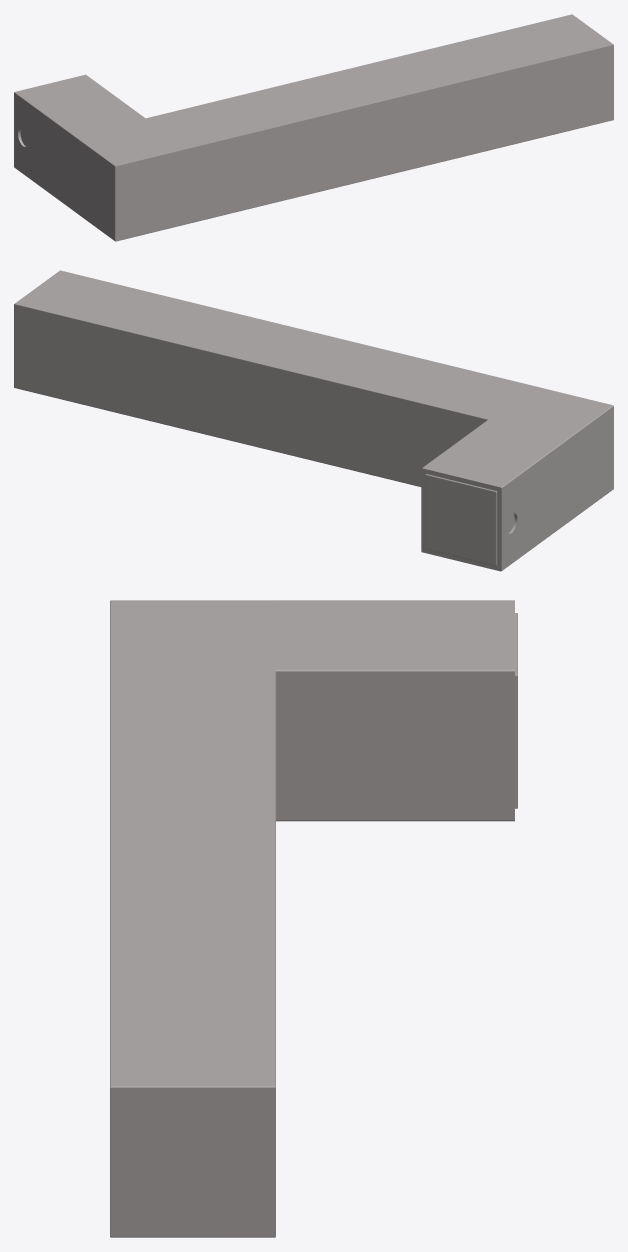
The model's file is Perilla.obj.
3 views of the same model, one above another, from view 1: azimuth 30°, elevation 25°; view 2: azimuth 150°, elevation 25°; view 3: azimuth 270°, elevation 25° (orthographic). The views are drawn at different scales.
Parts seen in each view (by area): view 1: polySurface2 Doorhandles_Mesh; view 2: polySurface2 Doorhandles_Mesh; view 3: polySurface2 Doorhandles_Mesh.
Boxes of the visible parts, x1,y1,x2,y2 form: polySurface2 Doorhandles_Mesh: (14, 14, 613, 241); polySurface2 Doorhandles_Mesh: (14, 270, 613, 571); polySurface2 Doorhandles_Mesh: (110, 600, 517, 1237).
Bounding box in the file's own units: 1.26 × 0.1831 × 0.4473.
1 material, 1 textured.
